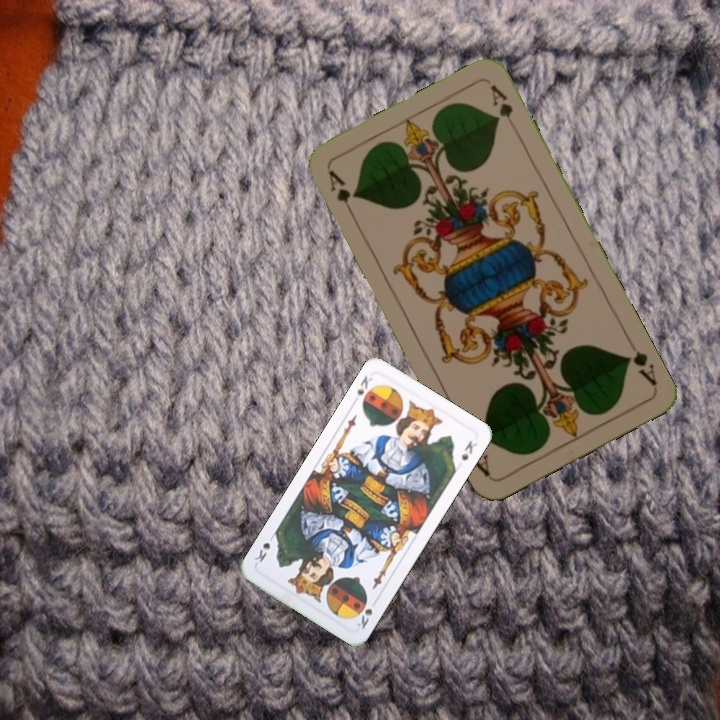GA: (324, 165, 358, 221), (620, 347, 660, 389)
SK: (353, 604, 375, 632), (353, 371, 375, 398)
